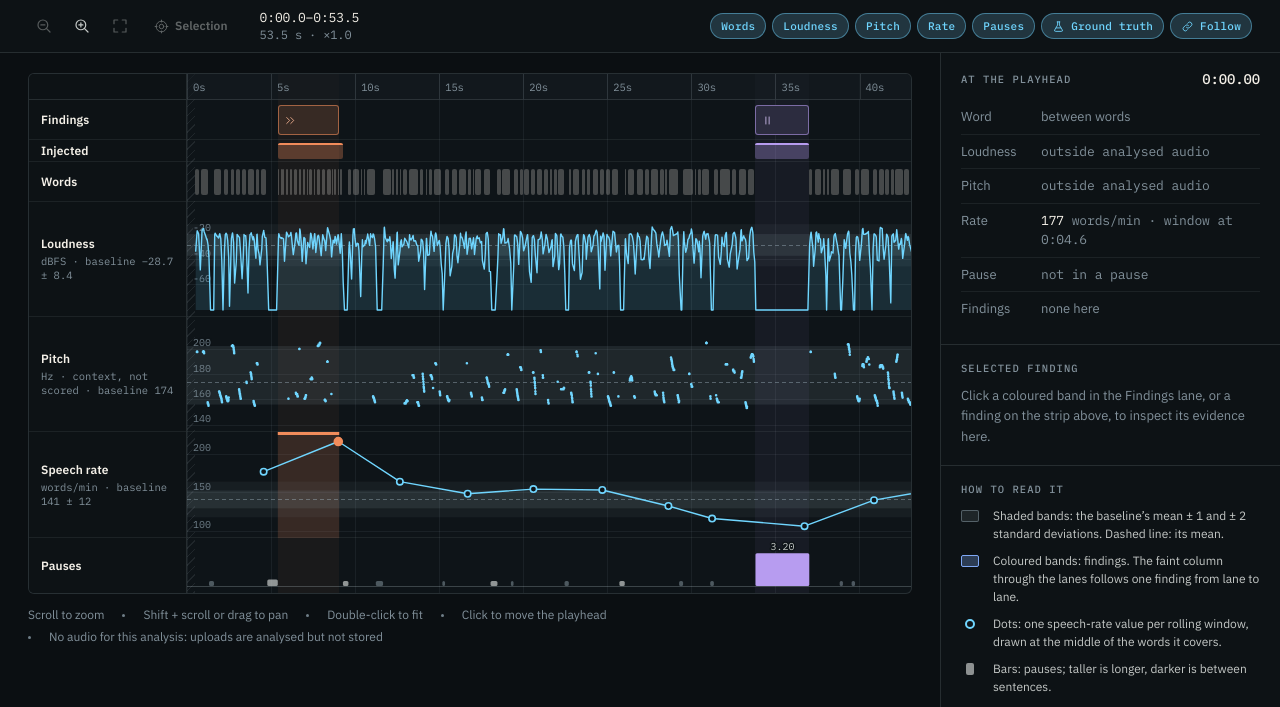
Test: TimelinePage › shows the ground-truth lane only for samples, and only when switched on
Click the button "Ground truth" at {"x": 1103, "y": 26}, box [1041,13,1164,39]
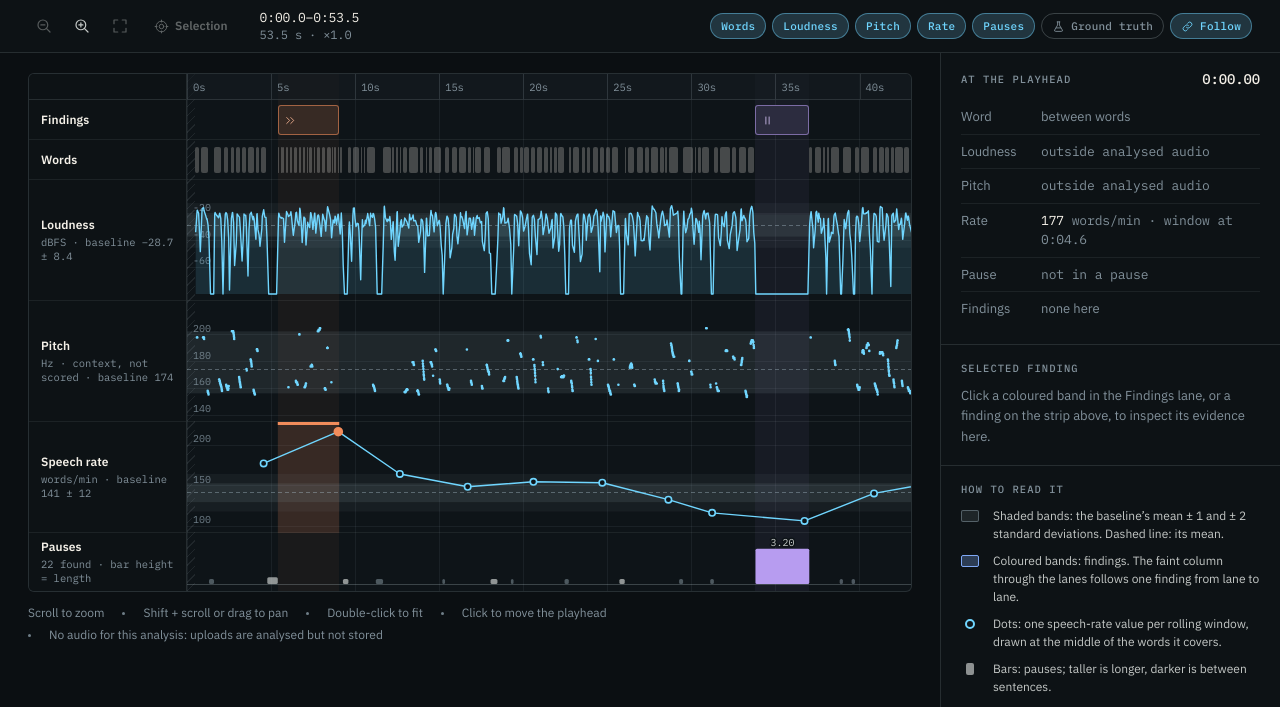
Result: the element with class "lane--truth" is gone
